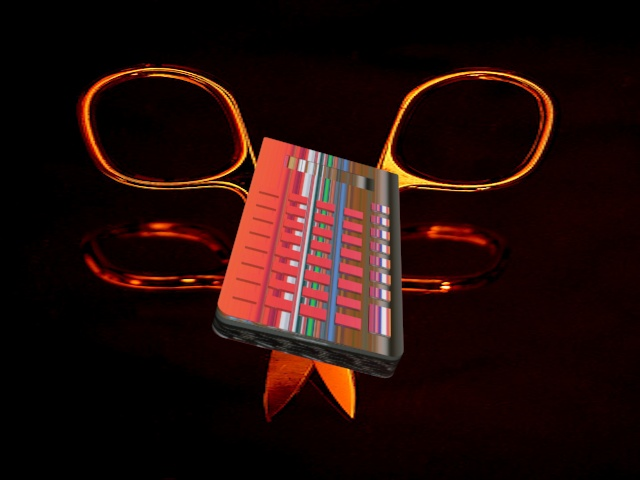calculator: (208, 128, 416, 384)
